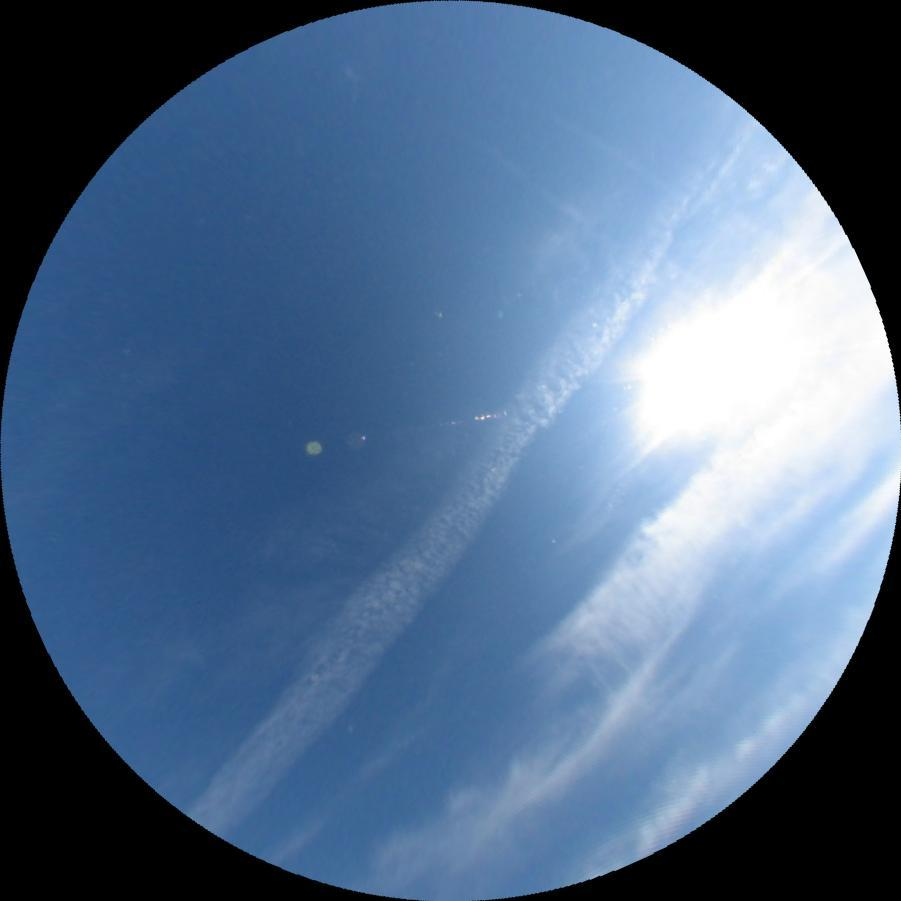contrail veryold: (183, 106, 788, 850), (486, 145, 589, 227)
sun: (623, 295, 806, 442)
unknow: (553, 110, 671, 192)
